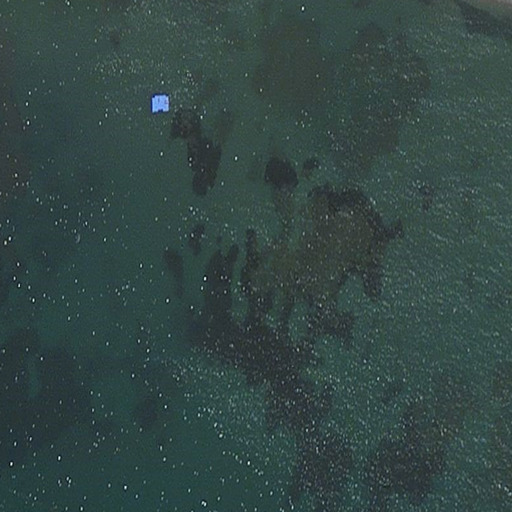ship: (149, 92, 171, 116)
